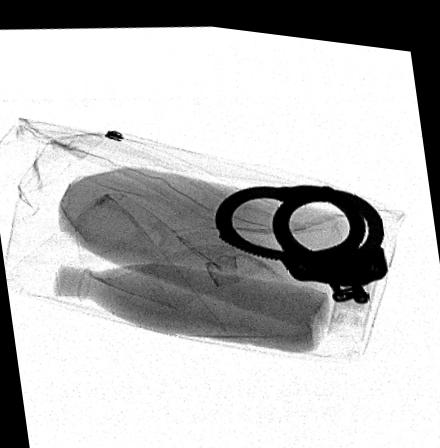HandCuffs: (214, 176, 387, 294)
